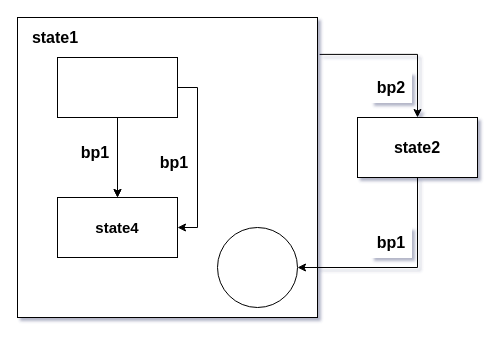
Some shapes in this 501 by 341 pixel diagram are drawn without their labels. The centre of each missing label's shape, as x and y in pixels:
history1: pixel 257 267
state3: pixel 117 87
